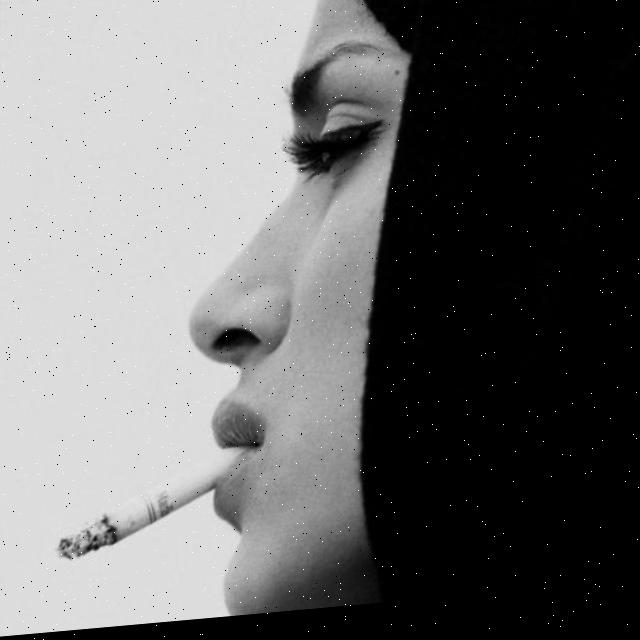cigarette: (62, 451, 258, 563)
